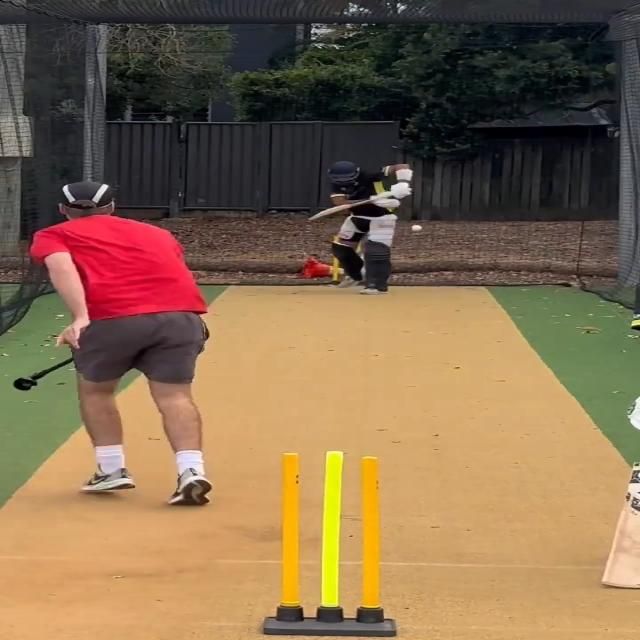ball: (409, 224, 424, 232)
stump: (258, 448, 402, 640)
